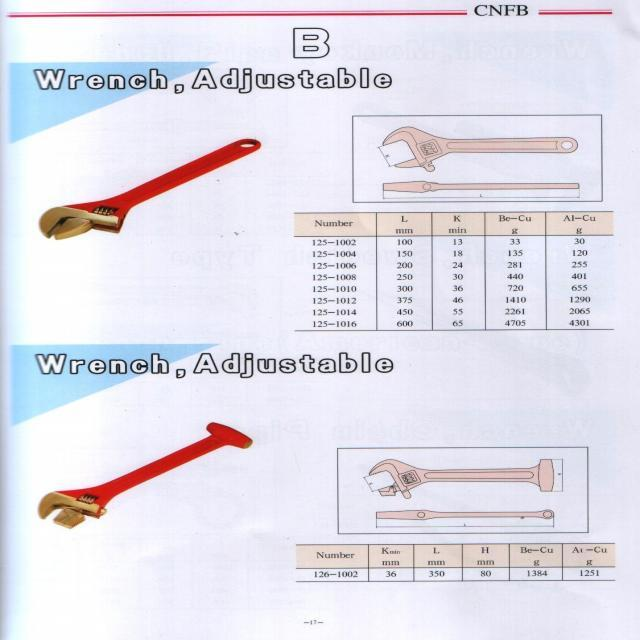wrench: (36, 416, 257, 534), (36, 130, 261, 243)
